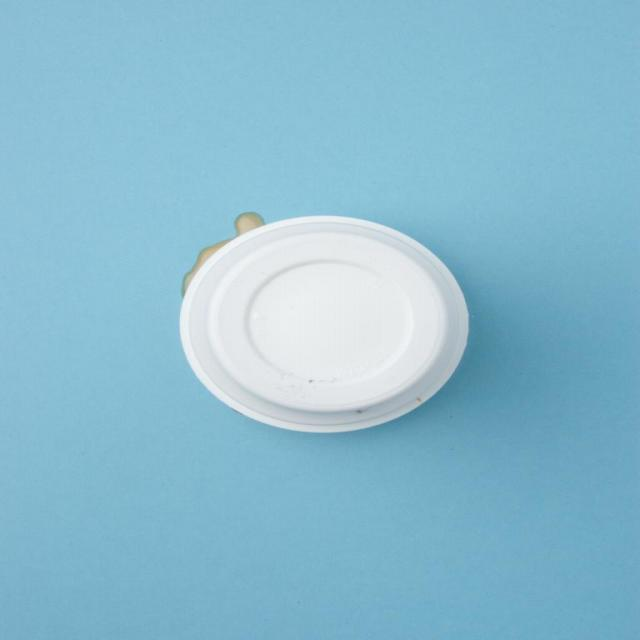non-organic waste: (153, 186, 474, 452)
